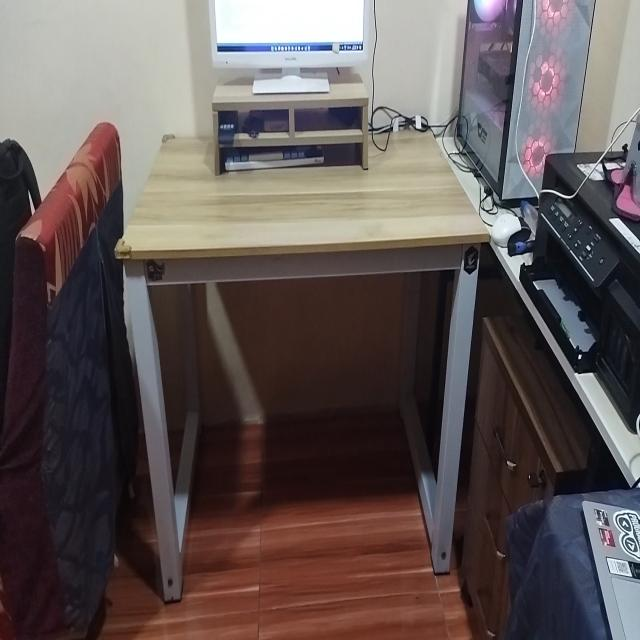table: (115, 116, 486, 583)
